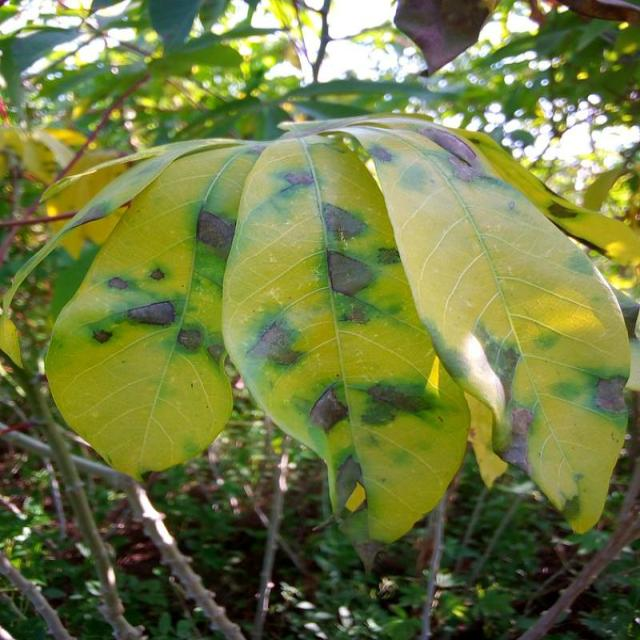cassava leaf: (286, 112, 632, 535), (219, 129, 471, 550), (42, 137, 266, 482)
